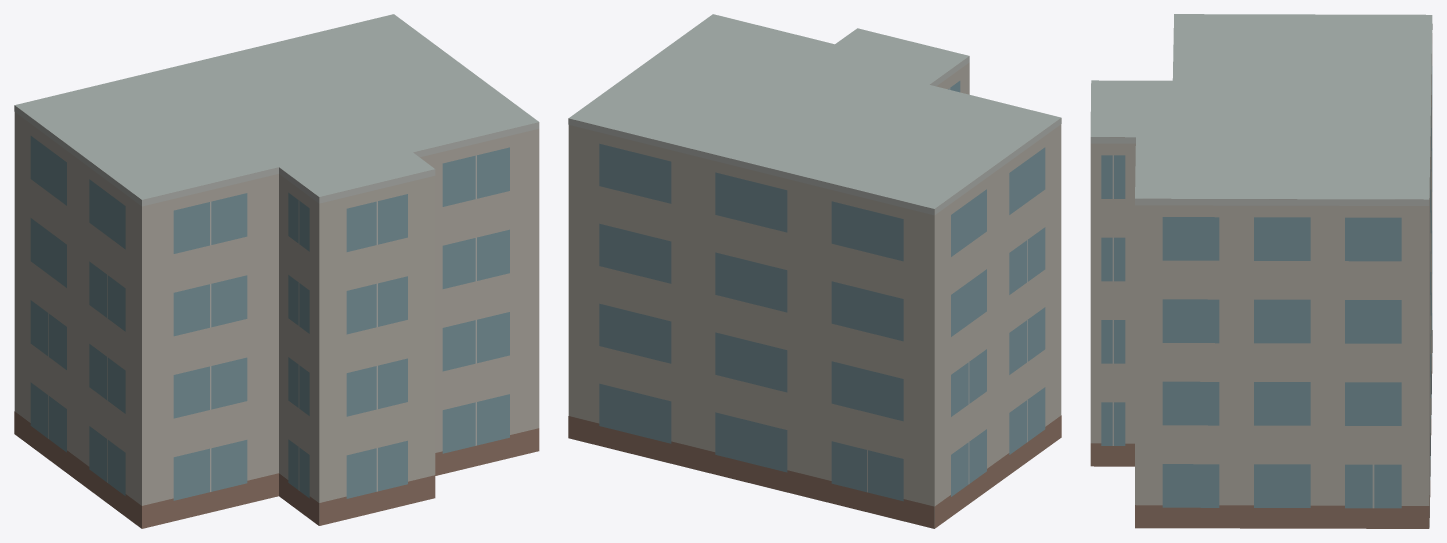
Rendered from residential-223732c0-aaa6-4e5f-a467-689acd57a464.glb.
3 views of the same model, side by side, from view 1: azimuth 30°, elevation 25°; view 2: azimuth 150°, elevation 25°; view 3: azimuth 270°, elevation 25° (orthographic). The views are drawn at different scales.
Visible parts, largest first — view 1: residential-223732c0-aaa6-4e5f-a467-689acd57a464.tmp; view 2: residential-223732c0-aaa6-4e5f-a467-689acd57a464.tmp; view 3: residential-223732c0-aaa6-4e5f-a467-689acd57a464.tmp.
Part boxes in pixels (left/top/right/bottom): residential-223732c0-aaa6-4e5f-a467-689acd57a464.tmp: left=14, top=14, right=539, bottom=528; residential-223732c0-aaa6-4e5f-a467-689acd57a464.tmp: left=568, top=14, right=1061, bottom=528; residential-223732c0-aaa6-4e5f-a467-689acd57a464.tmp: left=1090, top=14, right=1432, bottom=528.
Size of the model in its own units: 14.74 by 12.2 by 11.49.
